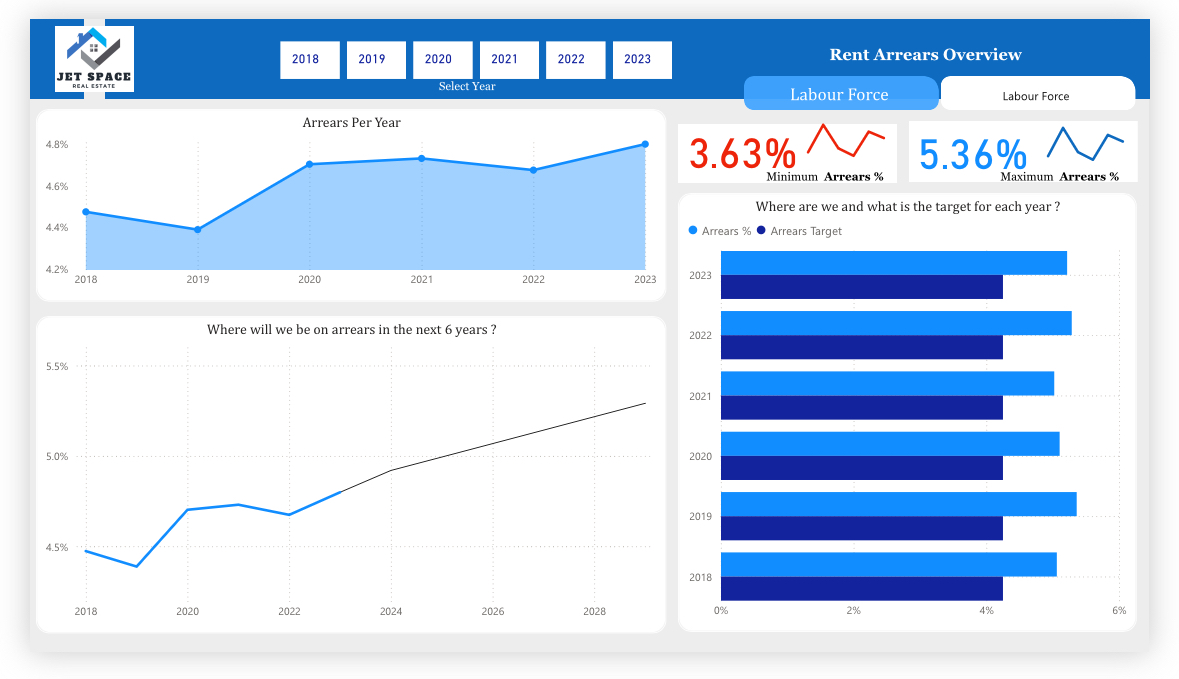

This screenshot's page, from the dashboard's own definition file:
{"tool":"powerbi","page":{"name":"Labour Force","canvas":[1280,720],"ordinal":0},"visuals":[{"type":"shape","box":[741.1,120.1,251,67.8],"z":0},{"type":"shape","box":[1004,117.8,261.7,70.2],"z":1000},{"type":"shape","box":[84.5,0,1195.5,91.6],"z":2000},{"type":"pageNavigator","box":[816.1,66.6,449.7,39.3],"z":3000},{"type":"textbox","box":[434.2,57.1,133.2,34.5],"z":4000},{"type":"shape","box":[0,0,61.9,91.6],"z":5000},{"type":"image","box":[22.6,0,99.9,91.6],"z":6000},{"type":"advancedSlicerVisual","fields":{"Values":["Question 1.Year1.Variation.Date Hierarchy.Year"]},"box":[280.7,19,460.4,53.5],"z":7000},{"type":"clusteredBarChart","title":"Where are we and what is the target for each year ?","fields":{"Y":["Max(Question 1.Arrears %)","Max(Question 1.Arrears Target )"],"Category":["Question 1.Year1.Variation.Date Hierarchy.Year","Question 1.Year1.Variation.Date Hierarchy.Quarter","Question 1.Year1.Variation.Date Hierarchy.Month","Question 1.Year1.Variation.Date Hierarchy.Day"]},"box":[741.1,199.9,524.6,502],"z":8000},{"type":"lineChart","title":"Where will we be on arrears in the next 6 years ?","fields":{"Category":["Question 1.Year1.Variation.Date Hierarchy.Year","Question 1.Year1.Variation.Date Hierarchy.Quarter","Question 1.Year1.Variation.Date Hierarchy.Month","Question 1.Year1.Variation.Date Hierarchy.Day"],"Y":["Avg(Question 1.Arrears %)"]},"box":[8.3,339,720.9,362.8],"z":9000},{"type":"stackedAreaChart","title":"Arrears Per Year ","fields":{"Category":["Question 1.Year1.Variation.Date Hierarchy.Year"],"Y":["Avg(Question 1.Arrears %)"]},"box":[8.3,102.3,720.9,220.1],"z":10000},{"type":"textbox","box":[908.8,22.6,264.1,47.6],"z":11000},{"type":"card","fields":{"Values":["Measure.Max Arrears"]},"box":[1010,117.8,139.2,64.2],"z":12000},{"type":"card","fields":{"Values":["Min(Question 1.Arrears %)"]},"box":[741.1,105.9,148.7,82.1],"z":13000},{"type":"textbox","box":[1106.3,164.2,159.4,35.7],"z":14000},{"type":"textbox","box":[838.7,164.2,226,35.7],"z":15000},{"type":"lineChart","fields":{"Category":["Question 1.Year1.Variation.Date Hierarchy.Year"],"Y":["Max(Question 1.Arrears %)"]},"box":[875.5,102.3,116.6,61.9],"z":16000},{"type":"lineChart","fields":{"Category":["Question 1.Year1.Variation.Date Hierarchy.Year"],"Y":["Max(Question 1.Arrears %)"]},"box":[1150.3,105.9,115.4,63],"z":17000}]}

Visuals, with their boxes in screenshot pixels (x1, y1, x2, y2), scaled from the page's 1280x720 canvas onto the 1179x679 screenshot:
shape: select_region(683, 113, 914, 177)
shape: select_region(925, 111, 1166, 177)
shape: select_region(78, 0, 1178, 86)
pageNavigator: select_region(752, 63, 1166, 100)
textbox: select_region(400, 54, 523, 86)
shape: select_region(0, 0, 57, 86)
image: select_region(21, 0, 113, 86)
advancedSlicerVisual - Question 1.Year1.Variation.Date Hierarchy.Year: select_region(259, 18, 683, 68)
"Where are we and what is the target for each year ?" clusteredBarChart: select_region(683, 189, 1166, 662)
"Where will we be on arrears in the next 6 years ?" lineChart: select_region(8, 320, 672, 662)
"Arrears Per Year " stackedAreaChart: select_region(8, 96, 672, 304)
textbox: select_region(837, 21, 1080, 66)
card - Measure.Max Arrears: select_region(930, 111, 1059, 172)
card - Min(Question 1.Arrears %): select_region(683, 100, 820, 177)
textbox: select_region(1019, 155, 1166, 189)
textbox: select_region(773, 155, 981, 189)
lineChart - Question 1.Year1.Variation.Date Hierarchy.Year x Max(Question 1.Arrears %): select_region(806, 96, 914, 155)
lineChart - Question 1.Year1.Variation.Date Hierarchy.Year x Max(Question 1.Arrears %): select_region(1060, 100, 1166, 159)
